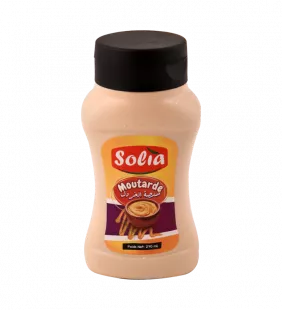SOLIA: (75, 20, 212, 284)
